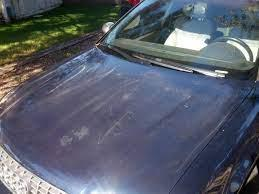bonnet-dent: (2, 65, 240, 193)
